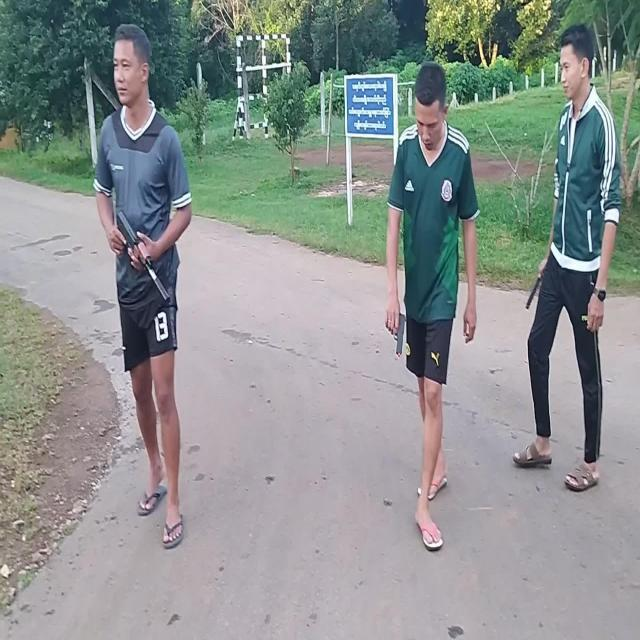gun: (117, 213, 171, 306), (393, 313, 405, 355)
